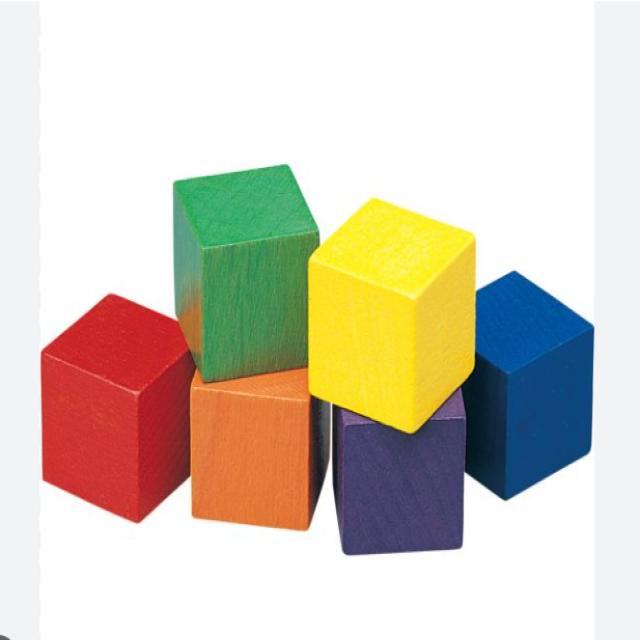bluecube: (461, 269, 593, 502)
green cube: (173, 163, 319, 385)
red cube: (41, 293, 197, 525)
